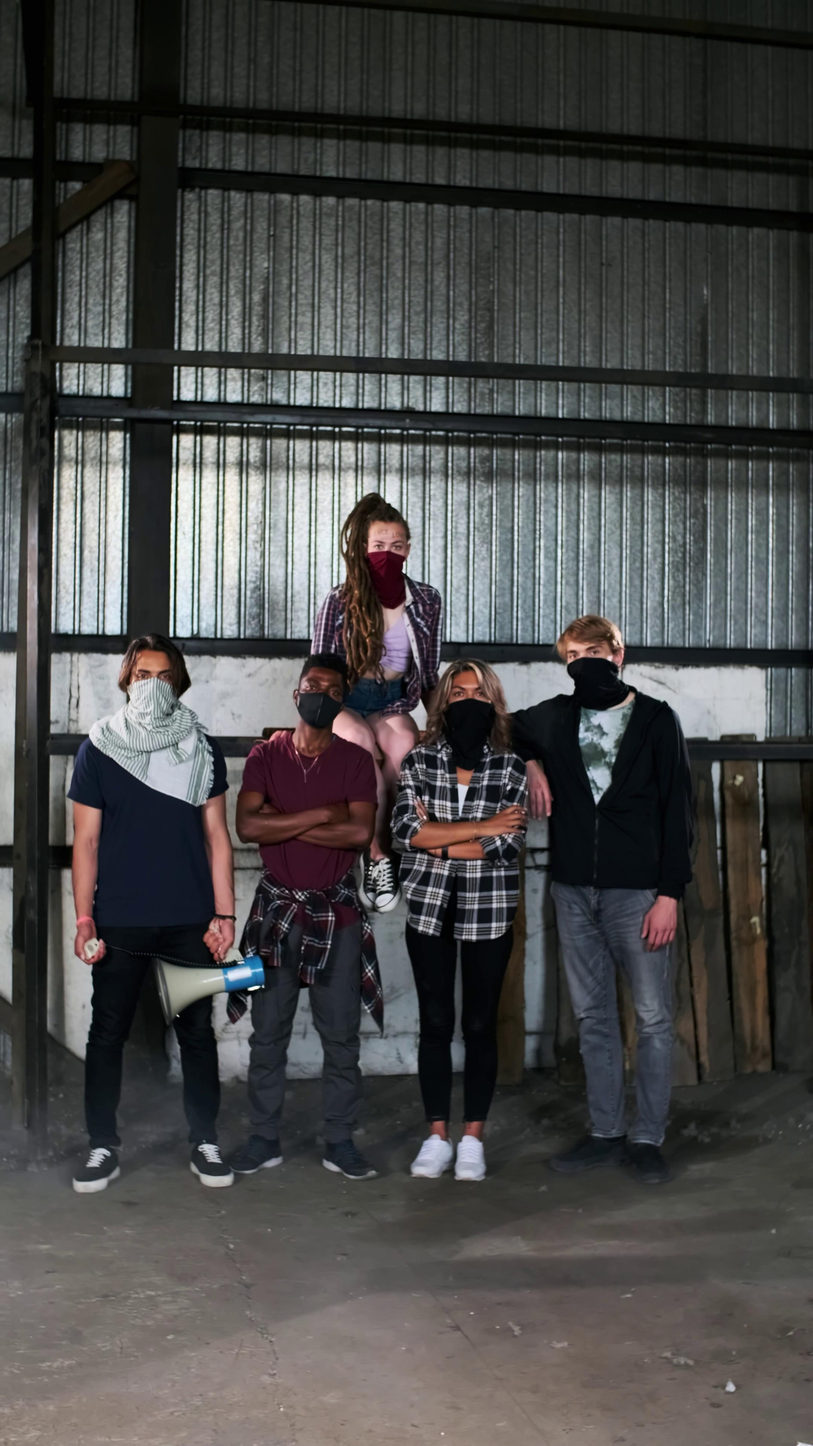mask: (440, 699, 497, 770), (566, 657, 627, 709), (126, 677, 181, 729), (365, 550, 406, 609), (294, 691, 344, 729)
person: (505, 613, 696, 1186), (67, 635, 238, 1194), (227, 653, 385, 1183), (390, 659, 531, 1183), (308, 493, 443, 916)
